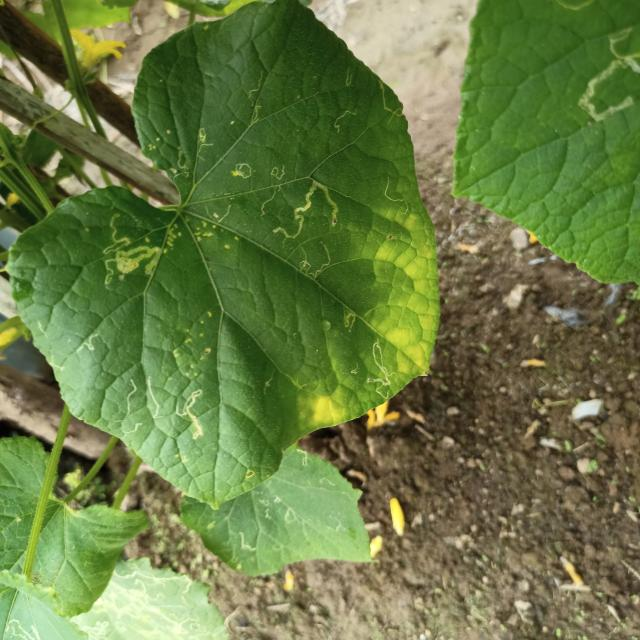disease_cucumber: (343, 193, 451, 376), (276, 360, 379, 429)
